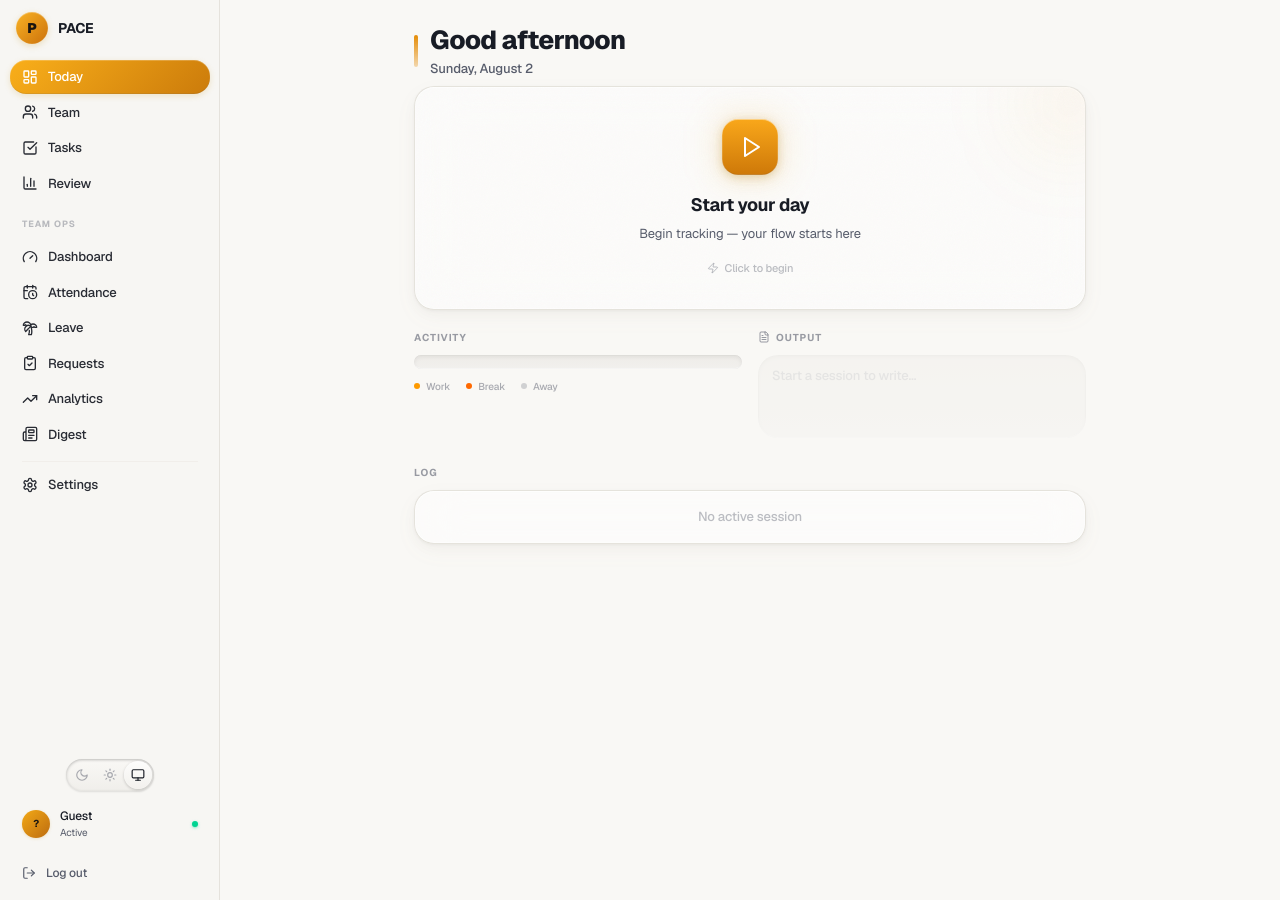
Scenario: Sidebar navigation › navigates to /tasks when Tasks nav item is clicked
The width and height of the screenshot is (1280, 900).
Step 1. Click the link "Tasks" → (52, 148), box [22,139,82,156]
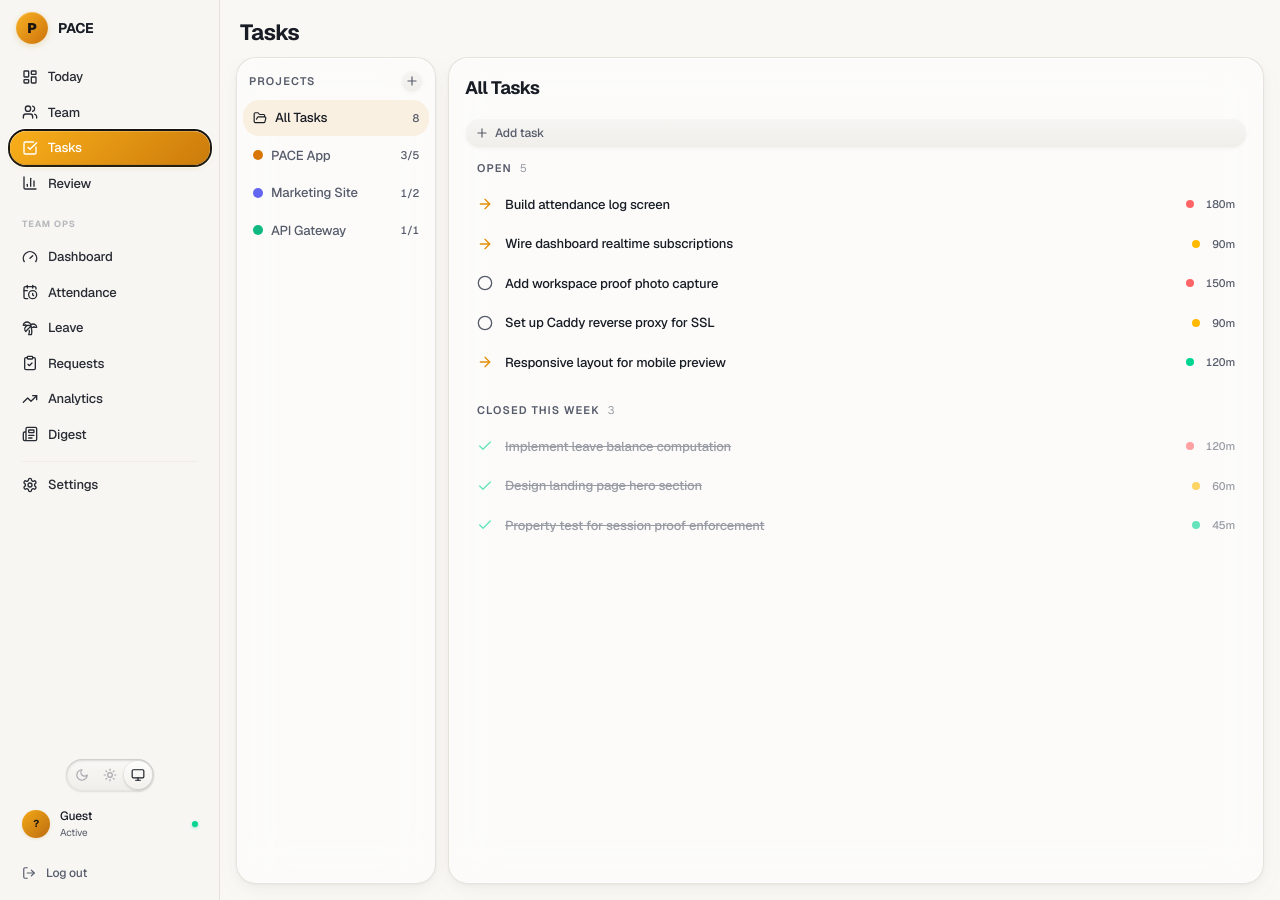
Expected: the heading "Tasks" is shown, [240,18,299,46]
